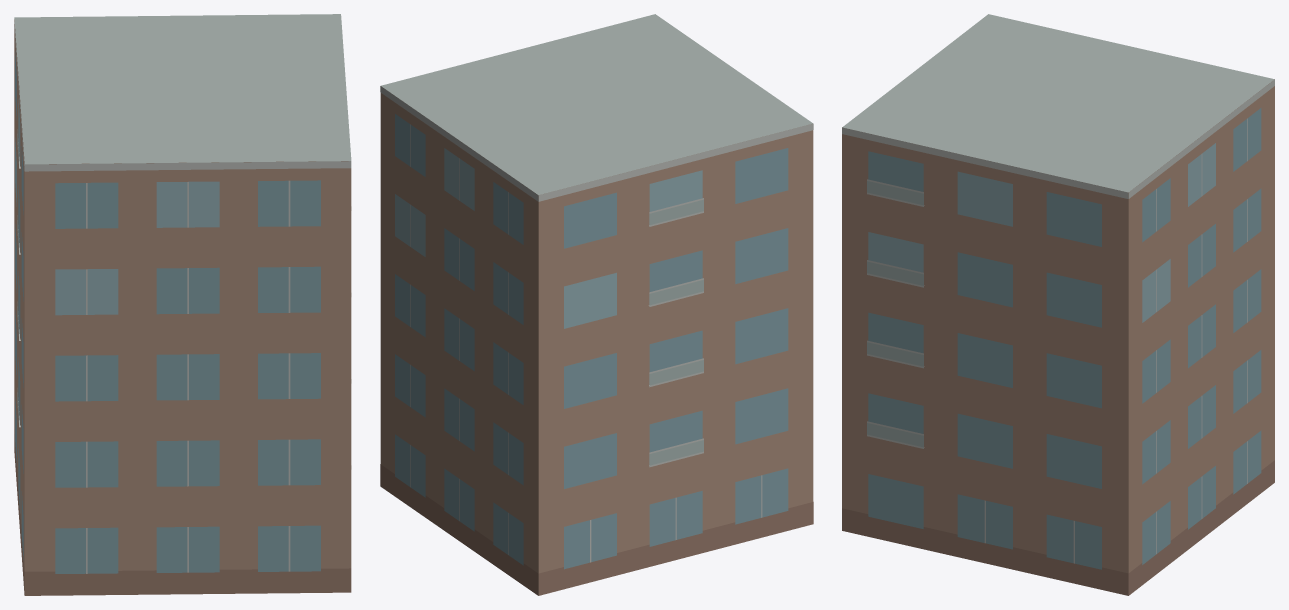
File: survey-upis-32963219.glb
3 views of the same model, side by side, from view 1: azimuth 30°, elevation 25°; view 2: azimuth 150°, elevation 25°; view 3: azimuth 270°, elevation 25° (orthographic). The views are drawn at different scales.
Visible parts, largest first — view 1: survey-upis-32963219.tmp; view 2: survey-upis-32963219.tmp; view 3: survey-upis-32963219.tmp.
Part boxes in pixels (x1=…): survey-upis-32963219.tmp: x1=14, y1=14, x2=351, y2=595; survey-upis-32963219.tmp: x1=380, y1=14, x2=813, y2=595; survey-upis-32963219.tmp: x1=842, y1=14, x2=1274, y2=595.
Size of the model in its own units: 13.96 by 14.7 by 14.3.
